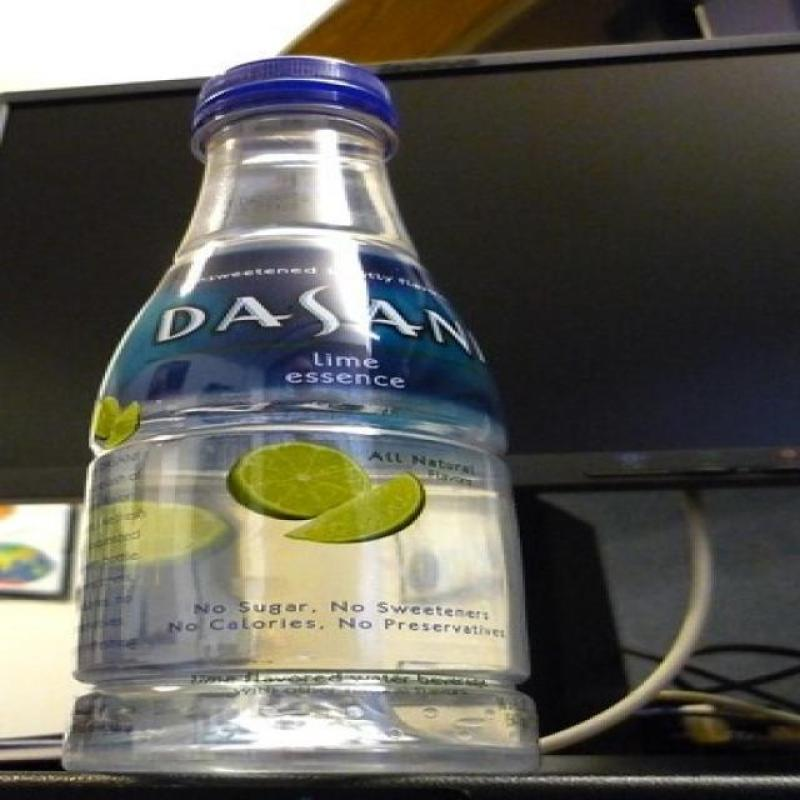botella: (61, 56, 541, 774)
